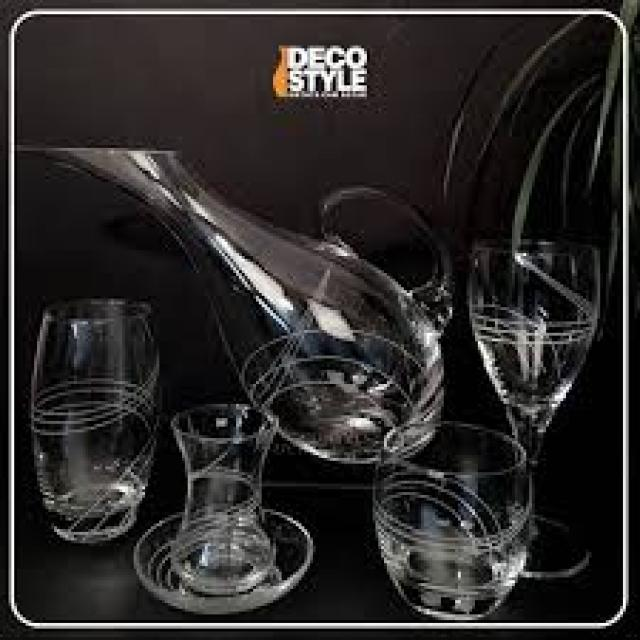Dry: (15, 148, 456, 466), (132, 401, 315, 619), (30, 298, 159, 544), (377, 427, 533, 620)
